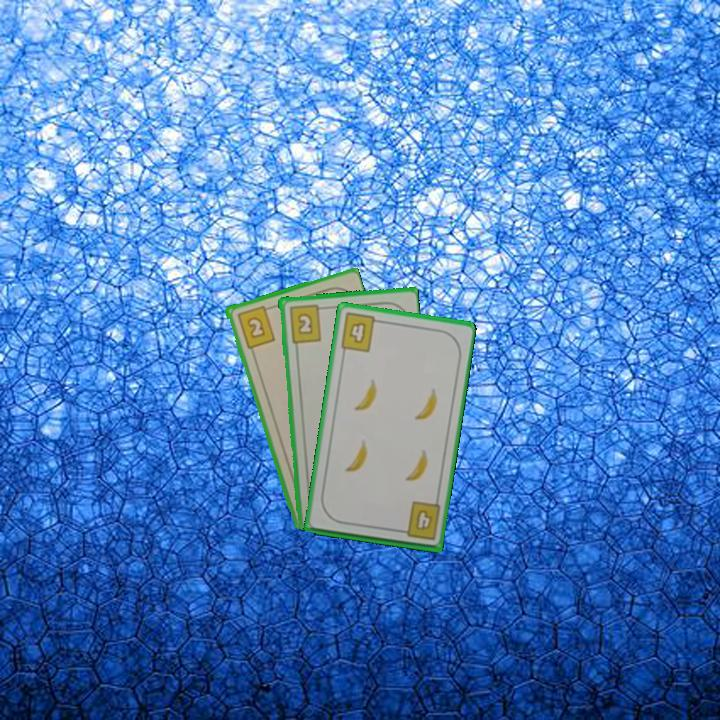2b: (233, 302, 278, 351), (285, 301, 327, 345)
4b: (337, 309, 385, 355), (394, 498, 443, 543)
